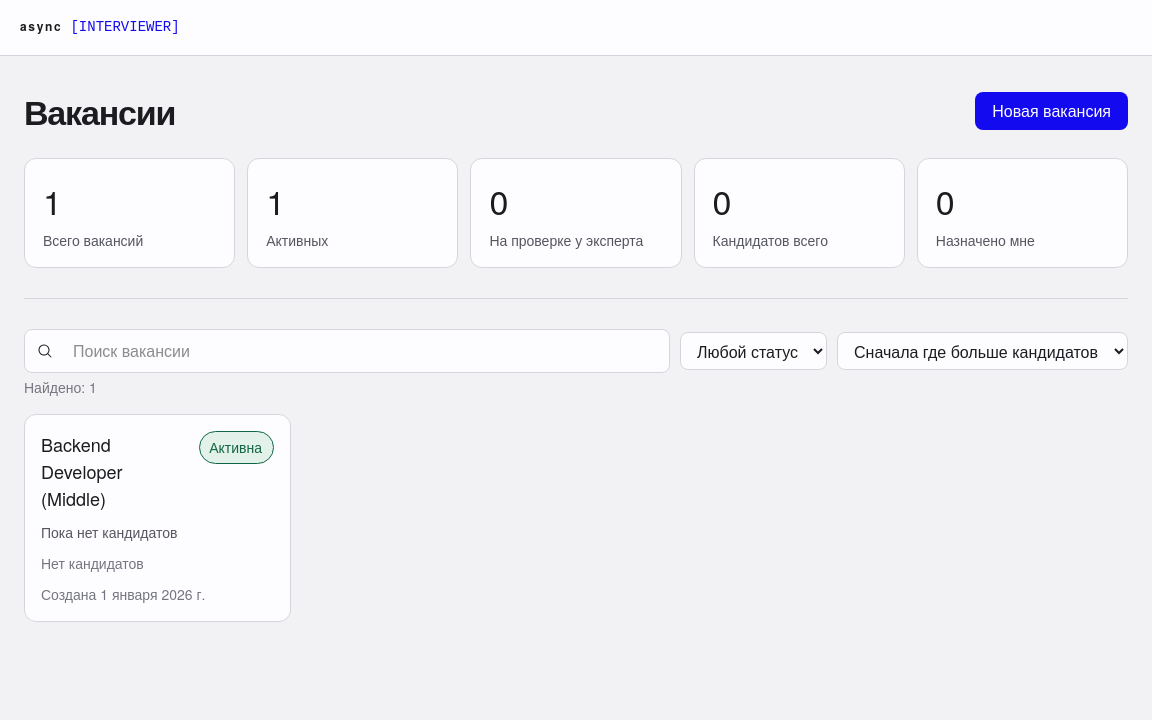
Scenario: VacanciesPage › distinguishes an empty catalog from an empty filter
The width and height of the screenshot is (1152, 720).
Expected: the text "Backend Developer (Middle)" is shown, 41,431 -> 122,511
Type "zzz" into the search field named "поиск по названию" at (359, 351), box 61,330 -> 657,372
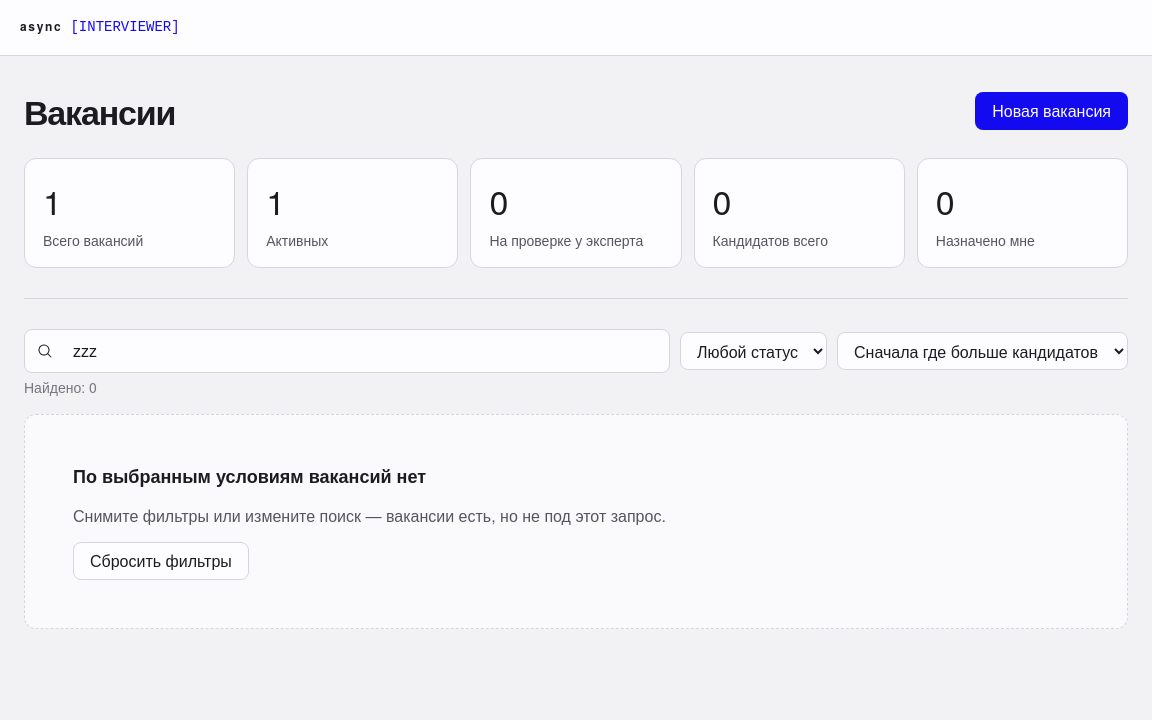
Now the heading "По выбранным условиям вакансий нет" is shown, box 73,463 -> 426,490
Now the button "Сбросить фильтры" is shown, box 73,542 -> 249,580
